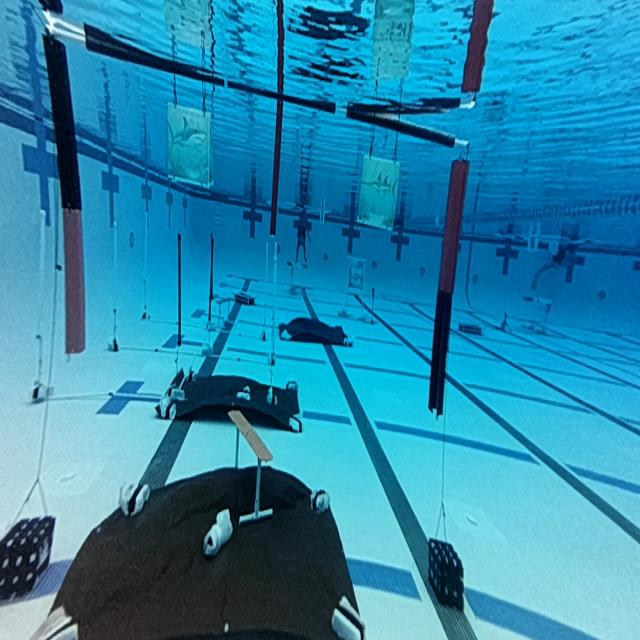pointed_nose: (363, 159, 399, 225)
round_nose: (167, 104, 209, 182)
